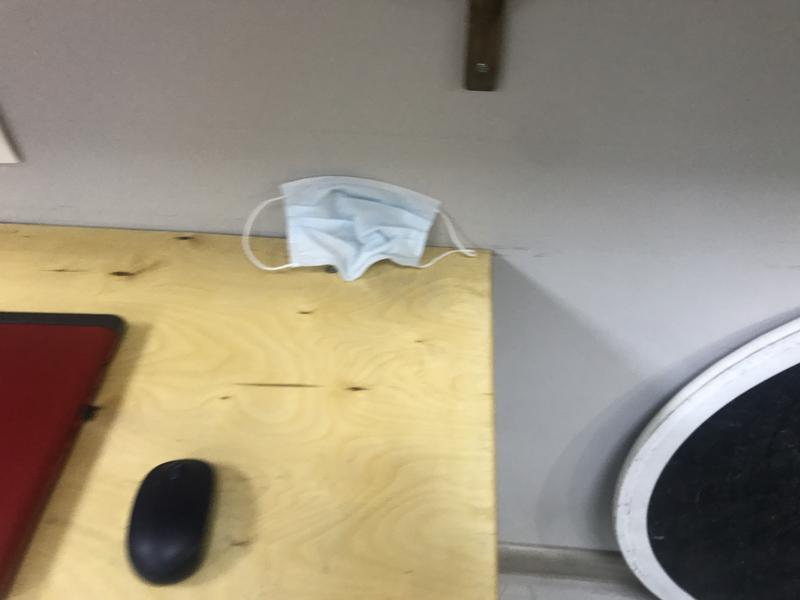medical_mask: (244, 178, 476, 280)
